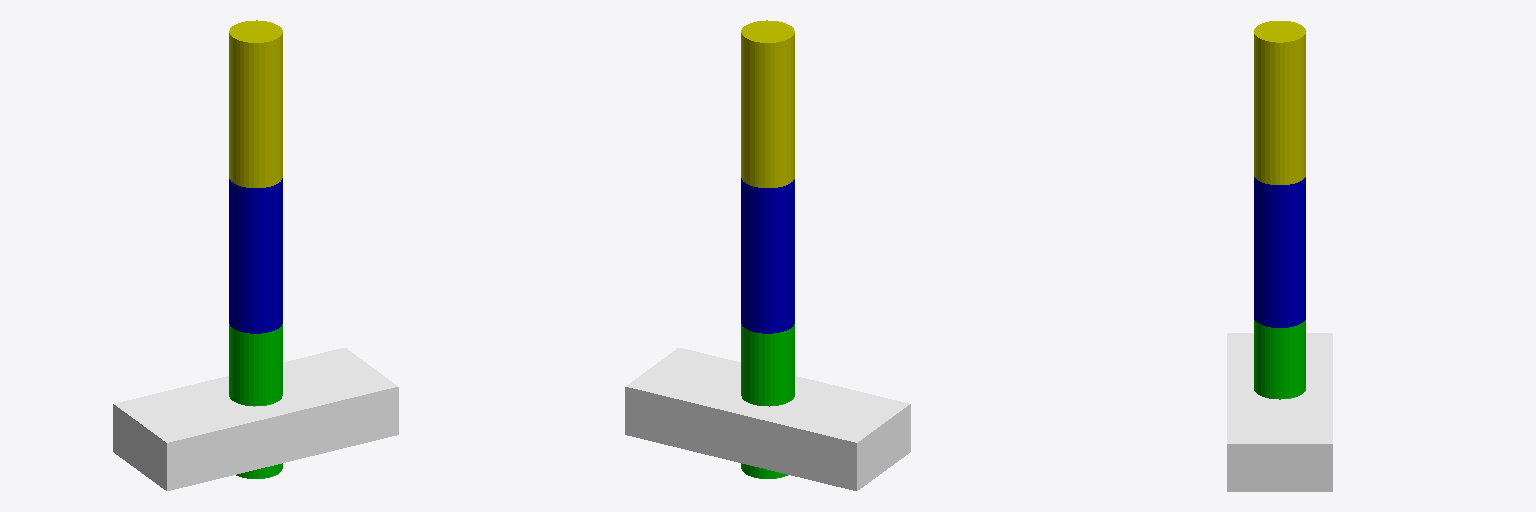
robot.urdf — three_dof_robot:
<?xml version="1.0"?>
<robot name="three_dof_robot" xmlns:xacro="http://www.ros.org/wiki/xacro">

  <!-- Base Link -->
  <link name="base_link">
    <inertial>
      <mass value="1.0"/>
      <inertia ixx="0.01" iyy="0.01" izz="0.01" ixy="0.0" ixz="0.0" iyz="0.0"/>
    </inertial>
    <visual>
      <geometry>
        <box size="0.5 0.2 0.1"/>
      </geometry>
      <material name="white">
        <color rgba="1.0 1.0 1.0 1.0"/>
      </material>
    </visual>
    <collision>
      <geometry>
        <box size="0.5 0.2 0.1"/>
      </geometry>
    </collision>
  </link>

  <!-- First Joint & Link -->
  <joint name="joint_1" type="revolute">
    <parent link="base_link"/>
    <child link="link_1"/>
    <origin xyz="0 0 0.05"/>
    <axis xyz="0 0 1"/>
    <limit effort="10" velocity="1.0" lower="-1.57" upper="1.57"/>
  </joint>

  <link name="link_1">
    <inertial>
      <mass value="0.8"/>
      <inertia ixx="0.02" iyy="0.02" izz="0.02" ixy="0.0" ixz="0.0" iyz="0.0"/>
    </inertial>
    <visual>
      <geometry>
        <cylinder radius="0.05" length="0.3"/>
      </geometry>
      <material name="green">
        <color rgba="0.0 0.8 0.0 1.0"/>
      </material>
    </visual>
    <collision>
      <geometry>
        <cylinder radius="0.05" length="0.3"/>
      </geometry>
    </collision>
  </link>

  <!-- Second Joint & Link -->
  <joint name="joint_2" type="revolute">
    <parent link="link_1"/>
    <child link="link_2"/>
    <origin xyz="0 0 0.3"/>
    <axis xyz="0 1 0"/>
    <limit effort="10" velocity="1.0" lower="-1.57" upper="1.57"/>
  </joint>

  <link name="link_2">
    <inertial>
      <mass value="0.6"/>
      <inertia ixx="0.015" iyy="0.015" izz="0.015" ixy="0.0" ixz="0.0" iyz="0.0"/>
    </inertial>
    <visual>
      <geometry>
        <cylinder radius="0.05" length="0.3"/>
      </geometry>
      <material name="blue">
        <color rgba="0.0 0.0 0.8 1.0"/>
      </material>
    </visual>
    <collision>
      <geometry>
        <cylinder radius="0.05" length="0.3"/>
      </geometry>
    </collision>
  </link>

  <!-- Third Joint & Link -->
  <joint name="joint_3" type="revolute">
    <parent link="link_2"/>
    <child link="link_3"/>
    <origin xyz="0 0 0.3"/>
    <axis xyz="0 1 0"/>
    <limit effort="10" velocity="1.0" lower="-1.57" upper="1.57"/>
  </joint>

  <link name="link_3">
    <inertial>
      <mass value="0.5"/>
      <inertia ixx="0.01" iyy="0.01" izz="0.01" ixy="0.0" ixz="0.0" iyz="0.0"/>
    </inertial>
    <visual>
      <geometry>
        <cylinder radius="0.05" length="0.3"/>
      </geometry>
      <material name="yellow">
        <color rgba="0.8 0.8 0.0 1.0"/>
      </material>
    </visual>
    <collision>
      <geometry>
        <cylinder radius="0.05" length="0.3"/>
      </geometry>
    </collision>
  </link>

</robot>

--- Facts derived from the render (not from the file) ---
The picture shows the robot from 3 angles, left to right: view 1: azimuth 30°, elevation 25°; view 2: azimuth 150°, elevation 25°; view 3: azimuth 270°, elevation 25°; orthographic projection.
Robot: three_dof_robot — 4 links, 3 joints (3 revolute); root link base_link; default pose: every joint at zero.
Links seen in each view (by area): view 1: base_link, link_3, link_2, link_1; view 2: base_link, link_3, link_2, link_1; view 3: base_link, link_3, link_2, link_1.
Link boxes in pixels (<box>): base_link: <box>113,348,398,490</box>; link_3: <box>229,20,282,187</box>; link_2: <box>229,178,282,333</box>; link_1: <box>229,324,282,478</box>; base_link: <box>625,348,910,490</box>; link_3: <box>741,20,794,187</box>; link_2: <box>741,178,794,333</box>; link_1: <box>741,324,794,478</box>; base_link: <box>1227,333,1332,491</box>; link_3: <box>1254,21,1305,184</box>; link_2: <box>1254,177,1305,327</box>; link_1: <box>1254,320,1305,399</box>.
Size in the robot's own frame: 0.5 by 0.2 by 0.9 metres.
Geometry: primitives only (box / cylinder / sphere), no mesh files.
